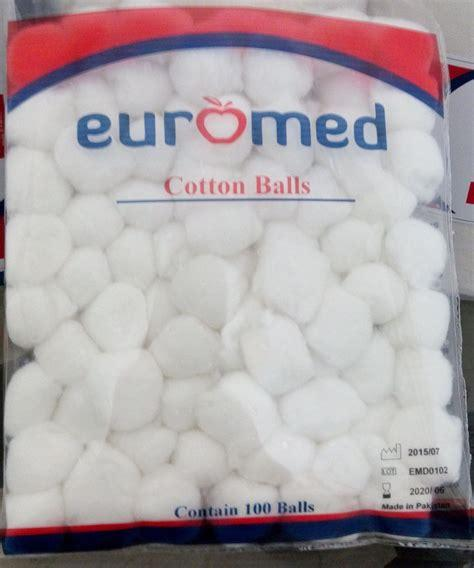cotton: (2, 0, 469, 546)
